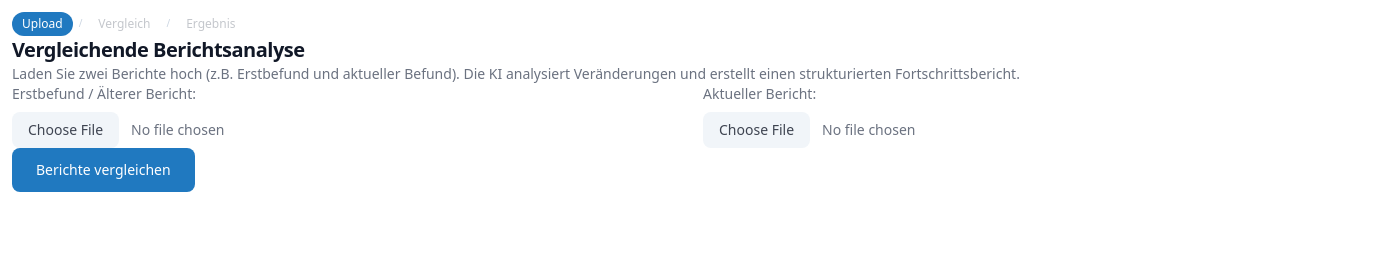
Test: CompareModule › shows error when no files selected
Step 1. Click the button "Berichte vergleichen" → (103, 170), box left=12, top=148, right=195, bottom=192
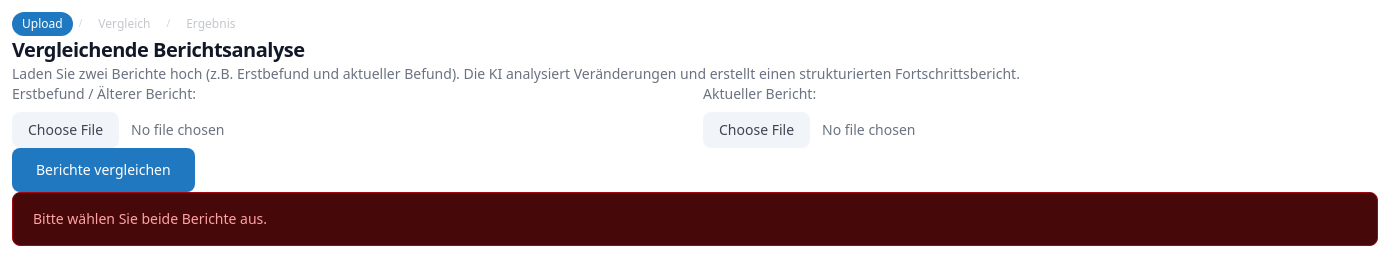
Check: the text "Bitte wählen Sie beide Berichte aus." is shown, box left=12, top=192, right=1378, bottom=246
